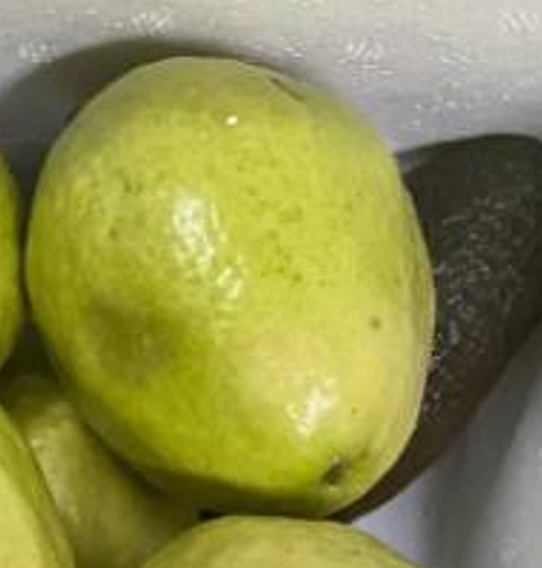guava_B: (22, 53, 435, 519)
